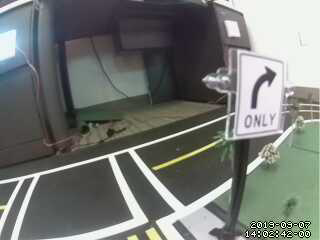Right_only_sign: (232, 51, 286, 136)
